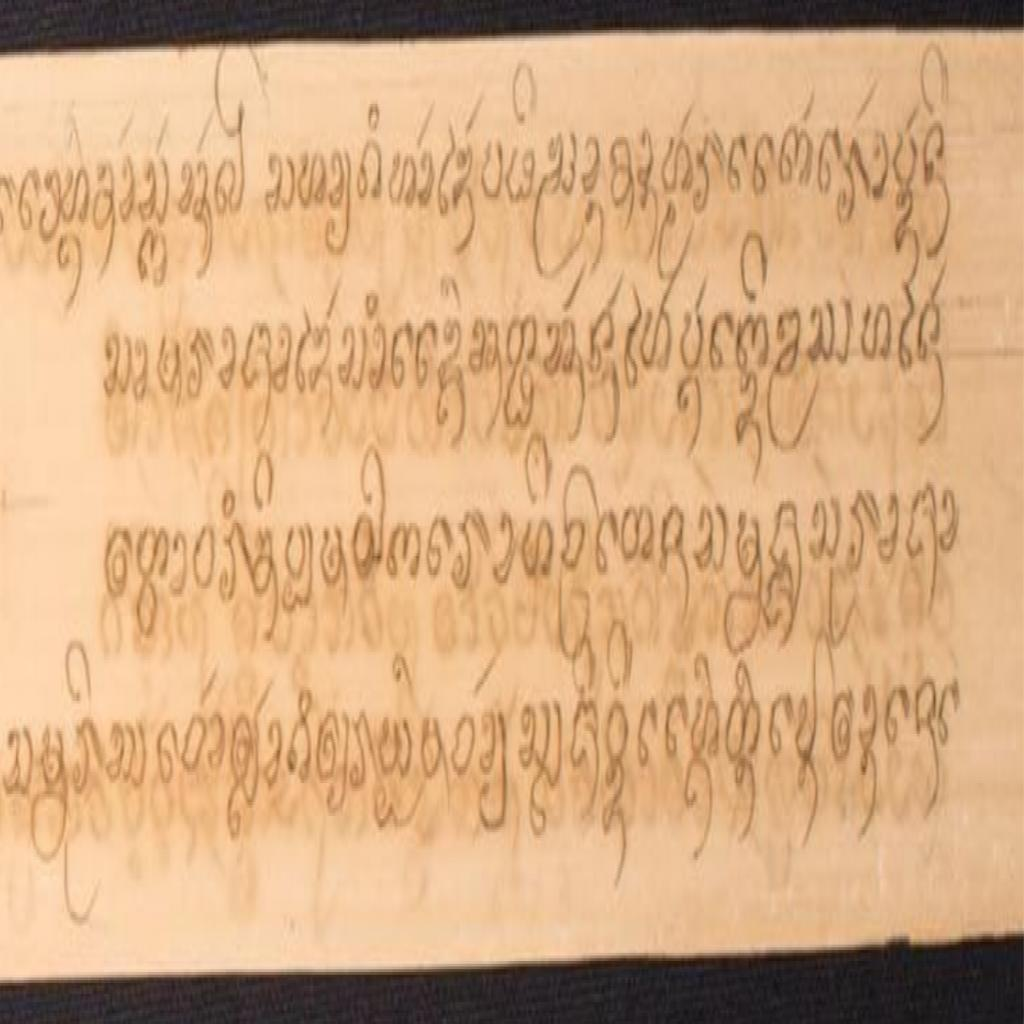LN039: (859, 297, 895, 372)
